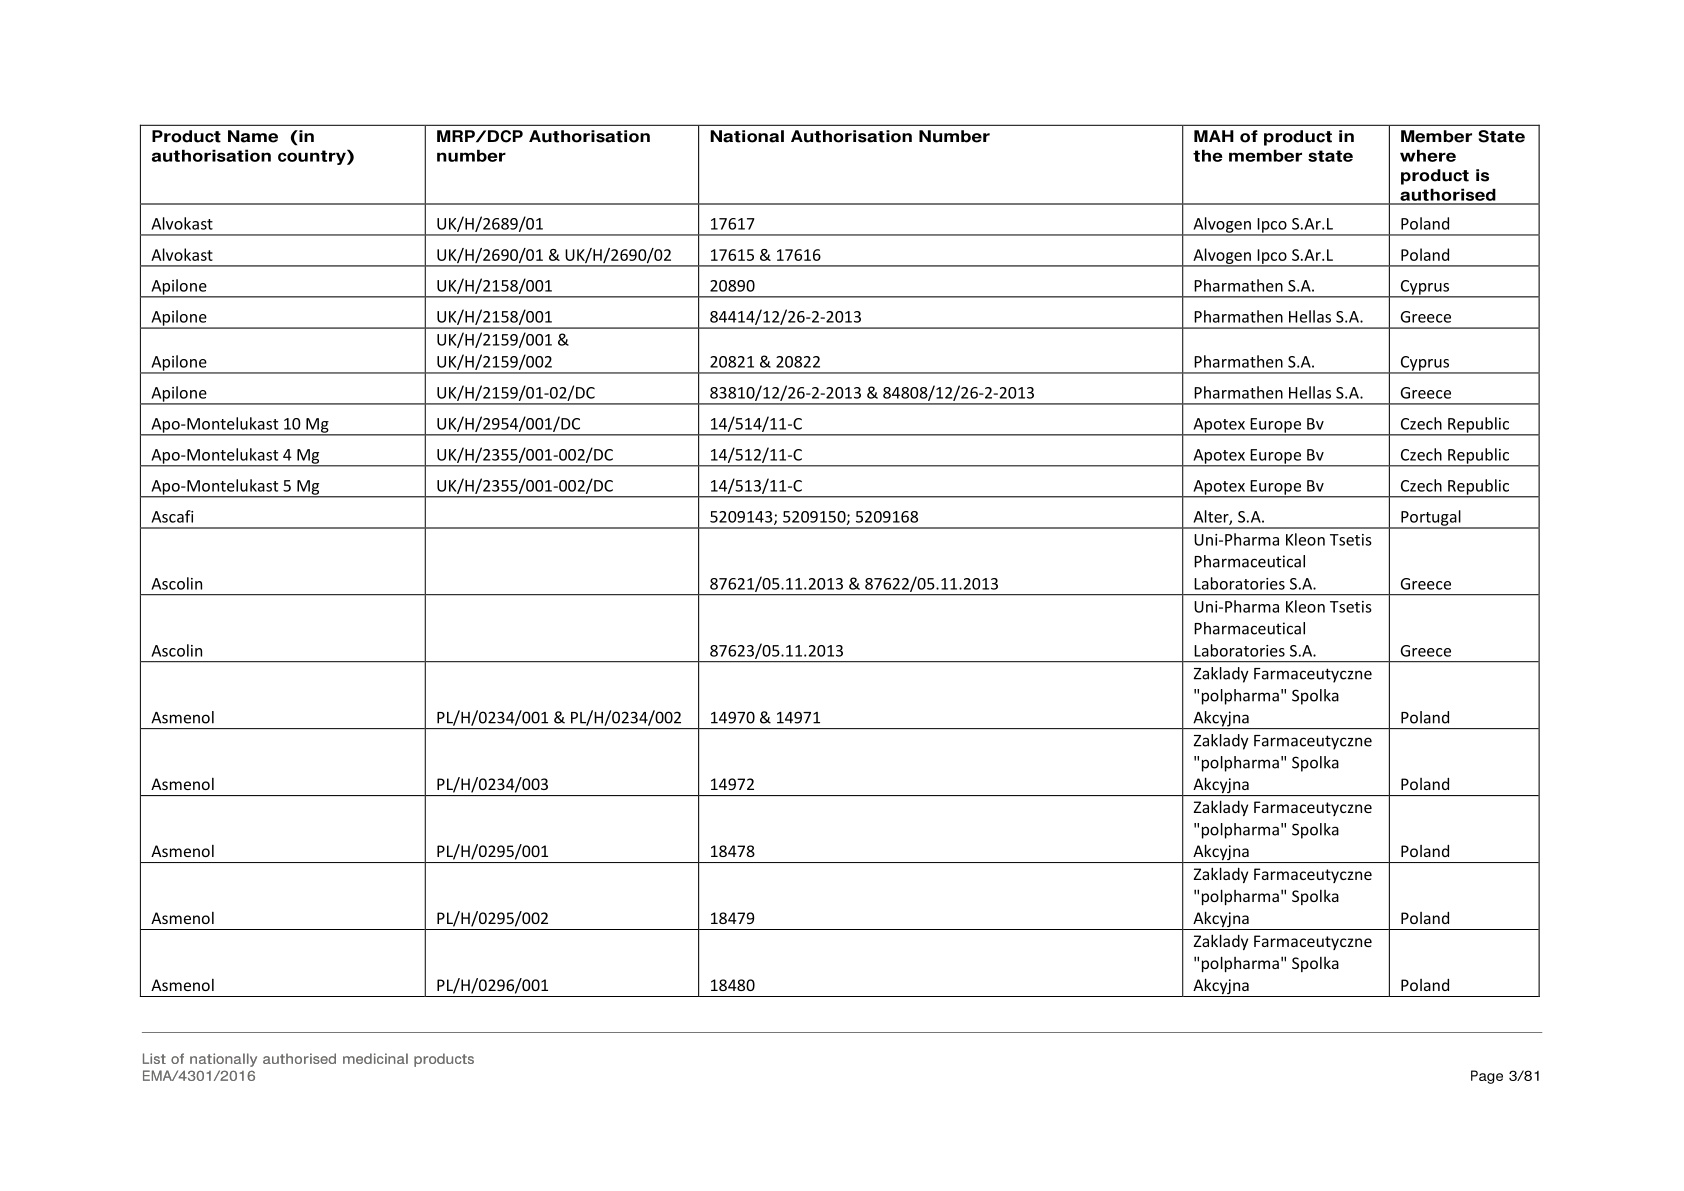full_lined: (139, 124, 1541, 999)
